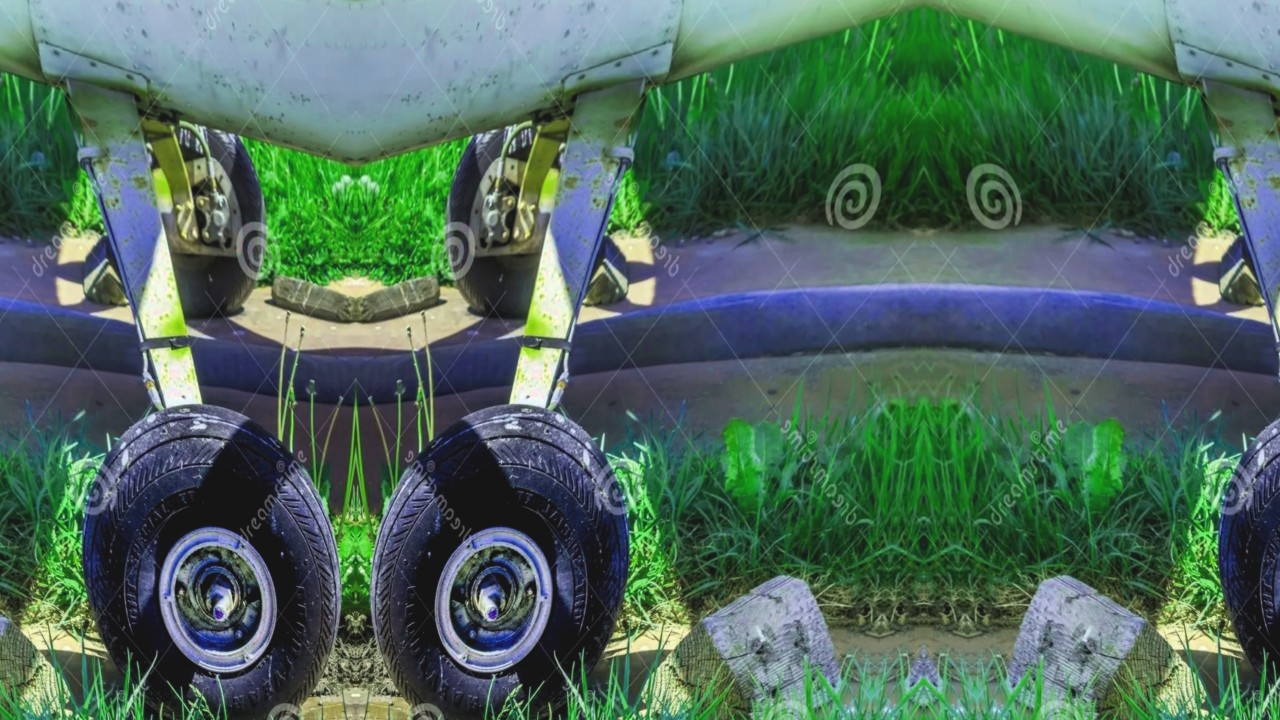chock: (630, 524, 871, 720), (977, 524, 1218, 720), (0, 524, 81, 720), (72, 210, 133, 321), (578, 210, 639, 321), (1209, 210, 1270, 321)
wheel: (58, 358, 356, 720), (356, 358, 653, 720), (1195, 358, 1280, 720), (151, 102, 278, 334), (433, 102, 560, 334)
